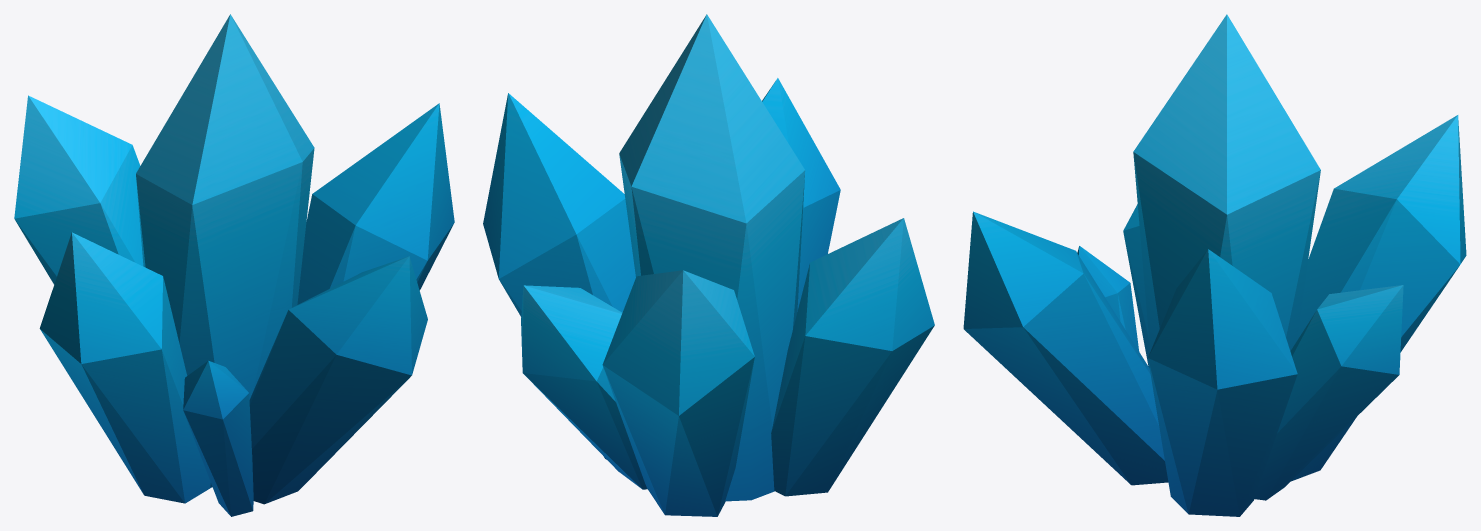
Rendered from Crystal_blue_02.fbx.
3 renders of one model, left to right at view 1: azimuth 30°, elevation 25°; view 2: azimuth 150°, elevation 25°; view 3: azimuth 270°, elevation 25°, orthographic. The views are drawn at different scales.
Parts seen in each view (by area): view 1: Crystal_blue_02; view 2: Crystal_blue_02; view 3: Crystal_blue_02.
Boxes of the visible parts, x1,y1,x2,y2 form: Crystal_blue_02: [14, 14, 454, 516]; Crystal_blue_02: [483, 14, 934, 516]; Crystal_blue_02: [963, 14, 1466, 516].
Bounding box in the file's own units: 169 × 181 × 177.
